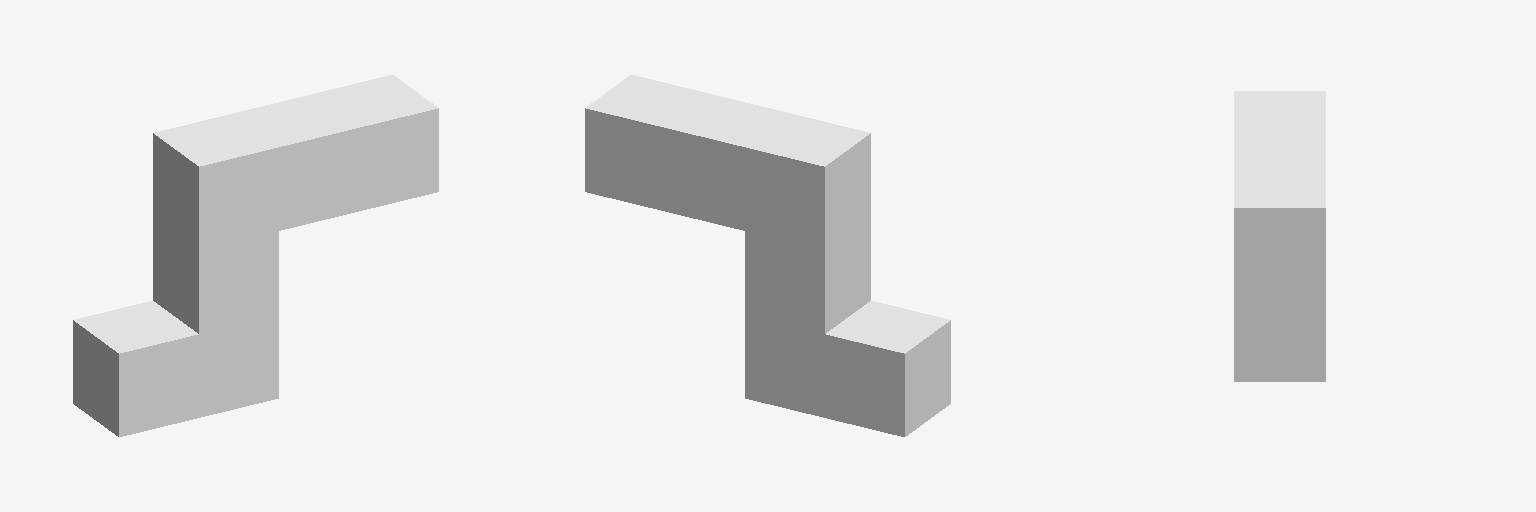
File: Dragon_large-3.obj
The picture shows the model from 3 angles: view 1: azimuth 30°, elevation 25°; view 2: azimuth 150°, elevation 25°; view 3: azimuth 270°, elevation 25°; orthographic projection.
Parts seen in each view (by area): view 1: object 1; view 2: object 1; view 3: object 1.
Boxes of the visible parts, x1=… form: object 1: x1=73, y1=75, x2=438, y2=436; object 1: x1=585, y1=75, x2=950, y2=436; object 1: x1=1234, y1=91, x2=1325, y2=381.
Bounding box in the file's own units: 0.8 × 0.6 × 0.2.